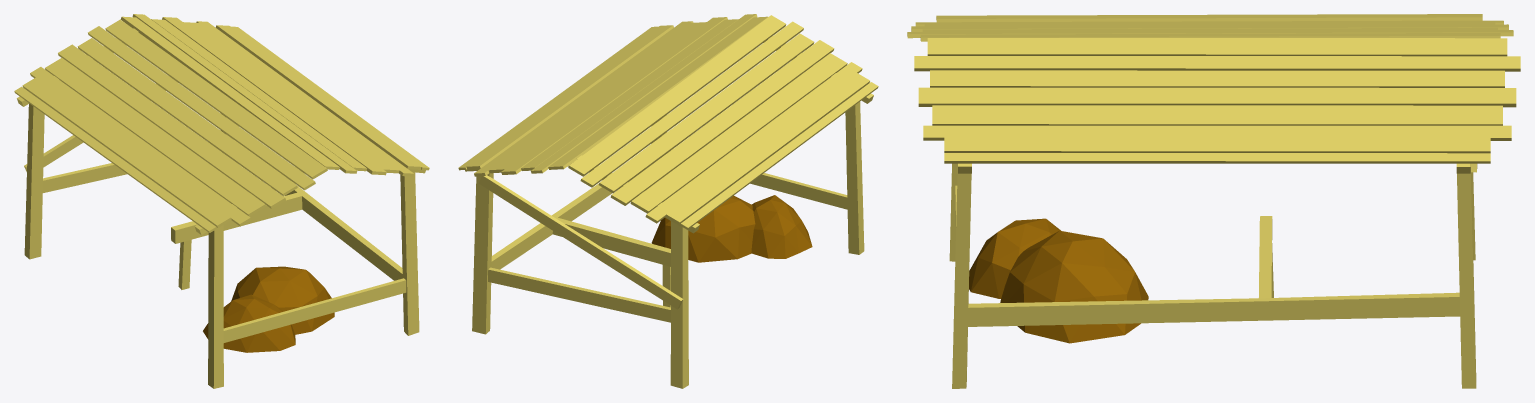
Rendered from barraco.glb.
3 renders of one model, left to right at view 1: azimuth 30°, elevation 25°; view 2: azimuth 150°, elevation 25°; view 3: azimuth 270°, elevation 25°, orthographic. The views are drawn at different scales.
Visible parts, largest first — view 1: Cube.001; view 2: Cube.001; view 3: Cube.001.
Part boxes in pixels (<box>): Cube.001: <box>14,14,429,388</box>; Cube.001: <box>458,14,878,388</box>; Cube.001: <box>907,14,1520,388</box>.
Size of the model in its own units: 2.61 by 2.2 by 4.22.
